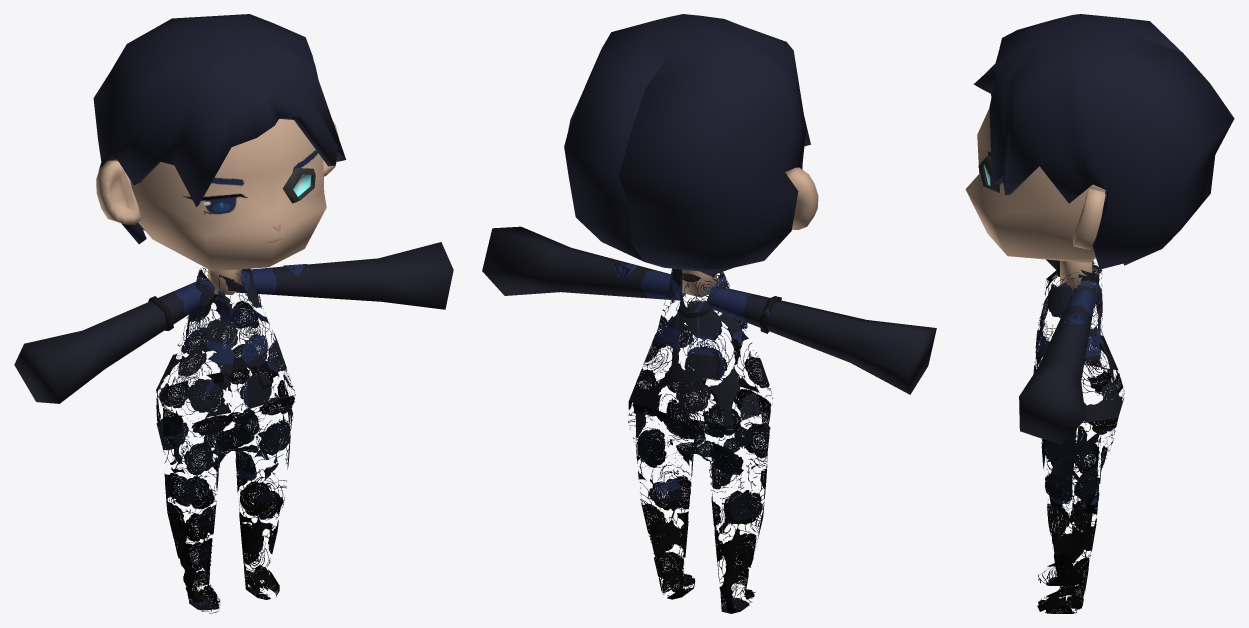
Rendered from Male1.fbx.
The picture shows the model from 3 angles, left to right: view 1: azimuth 30°, elevation 25°; view 2: azimuth 150°, elevation 25°; view 3: azimuth 270°, elevation 25°; orthographic projection. The views are drawn at different scales.
Visible parts, largest first — view 1: Head, Body, Arms; view 2: Head, Body, Arms, Neck; view 3: Head, Body, Arms, Neck.
Part boxes in pixels (box(x1,y1,x2,y2)): Head: box(93, 14, 346, 271); Body: box(156, 267, 295, 613); Arms: box(14, 242, 453, 403); Head: box(564, 14, 818, 275); Body: box(628, 268, 772, 613); Arms: box(482, 226, 936, 394); Neck: box(682, 269, 716, 297); Head: box(965, 14, 1234, 269); Body: box(1033, 261, 1124, 613); Arms: box(1019, 259, 1095, 444); Neck: box(1060, 260, 1092, 291).
Size of the model in its own units: 252 by 323 by 139.
Materials: 8 (8 with a texture image).
